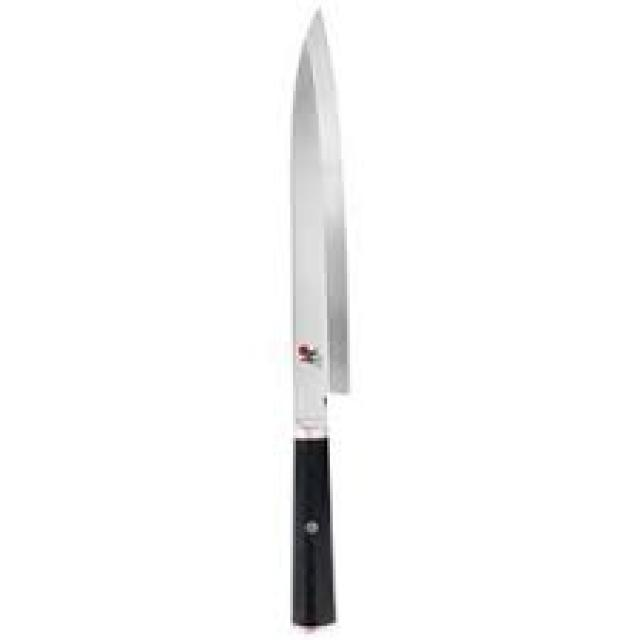knife: (282, 1, 373, 640)
